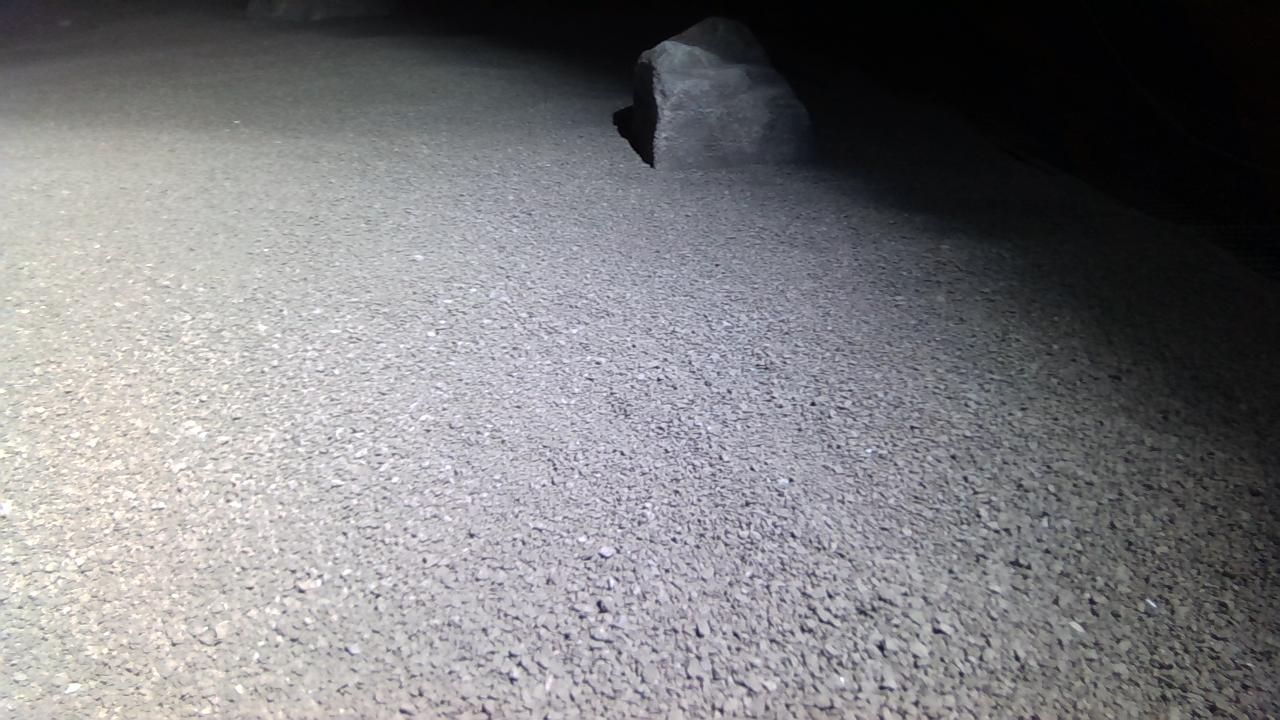rock: (631, 15, 814, 168), (245, 0, 393, 20)
